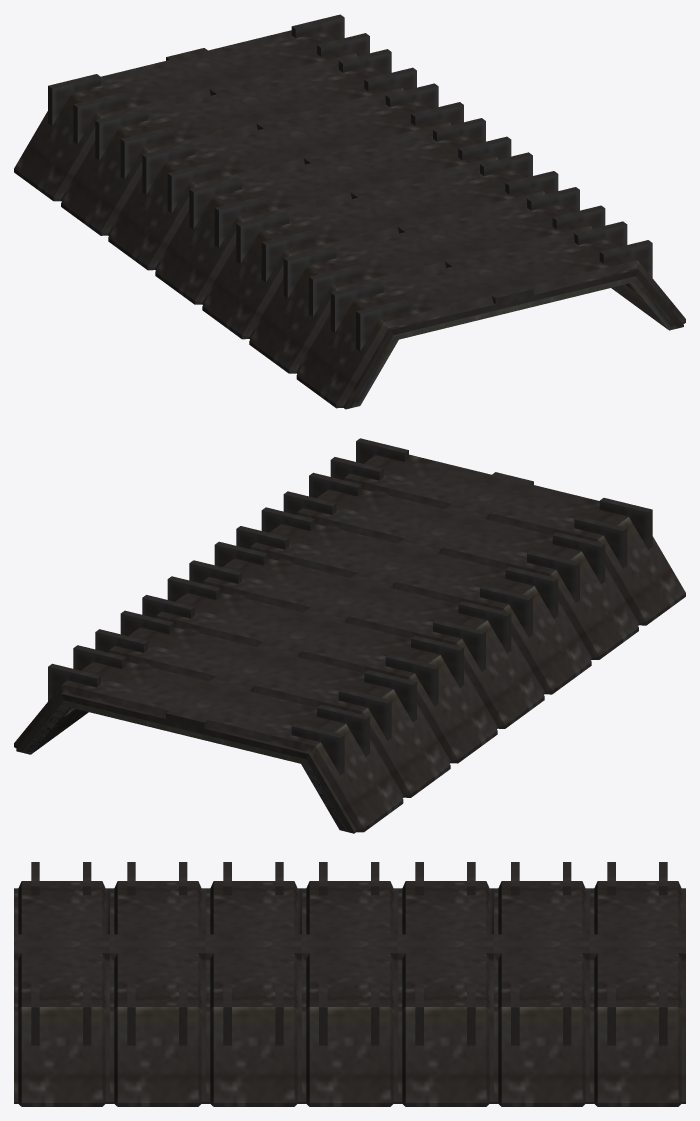
The model's file is Autonomous_unit_1_ceiling.FBX.
The picture shows the model from 3 angles, top to bottom: view 1: azimuth 30°, elevation 25°; view 2: azimuth 150°, elevation 25°; view 3: azimuth 270°, elevation 25°; orthographic projection.
Visible parts, largest first — view 1: Autonomous_unit_1_ceiling; view 2: Autonomous_unit_1_ceiling; view 3: Autonomous_unit_1_ceiling.
Boxes of the visible parts, x1,y1,x2,y2 form: Autonomous_unit_1_ceiling: (14, 14, 685, 409); Autonomous_unit_1_ceiling: (14, 438, 685, 833); Autonomous_unit_1_ceiling: (14, 862, 685, 1106).
Size of the model in its own units: 644 by 147 by 1050.
